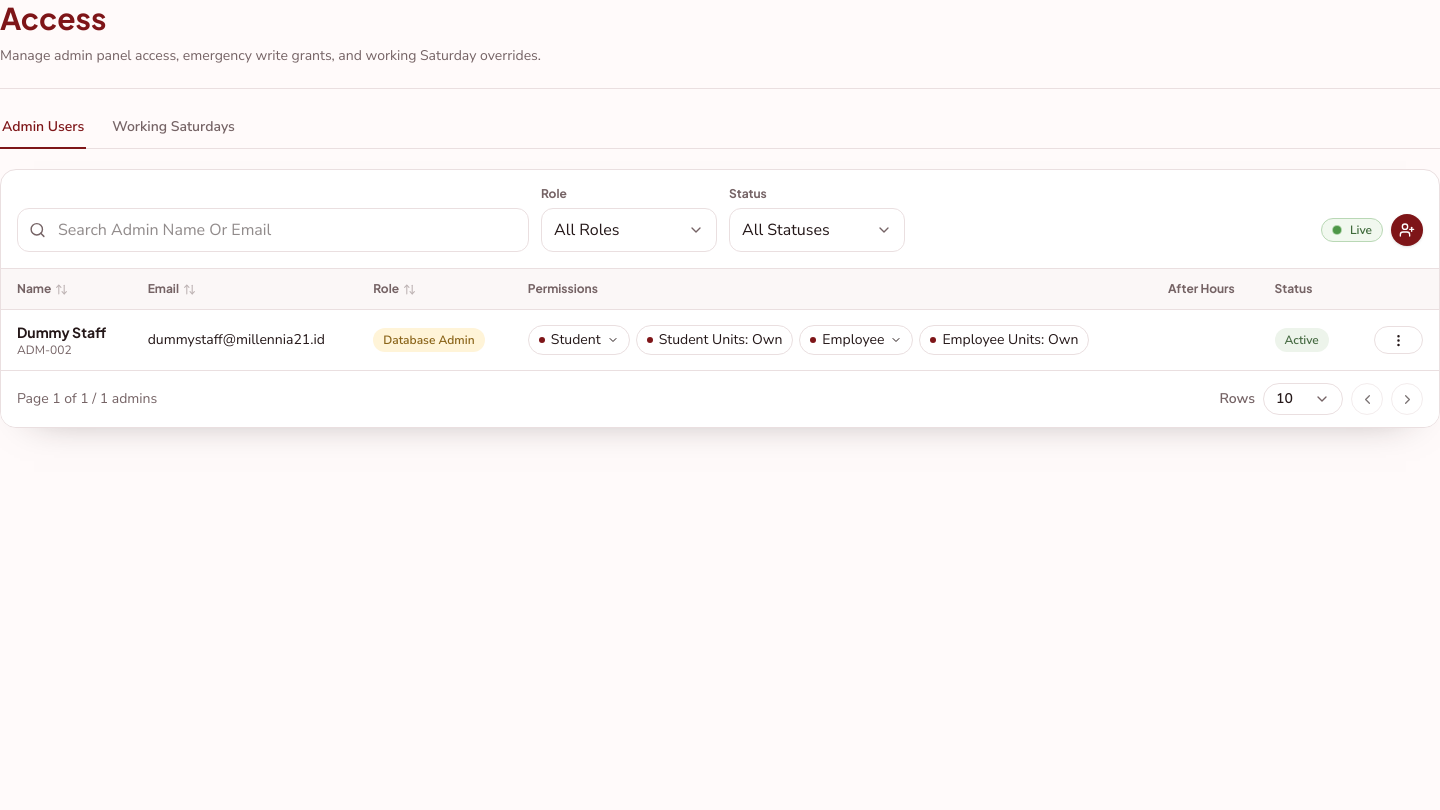
Test: Access role change summary › pages through the access history ten at a time instead of cutting it off
Expected: the text "dummystaff@millennia21.id" is shown, [148, 330, 341, 350]
What coordinates should you click on to do the following:
click the button named "Actions for dummystaff@millennia21.id"
I would click on:
 (1398, 340)
Its box is [1374, 326, 1423, 354].
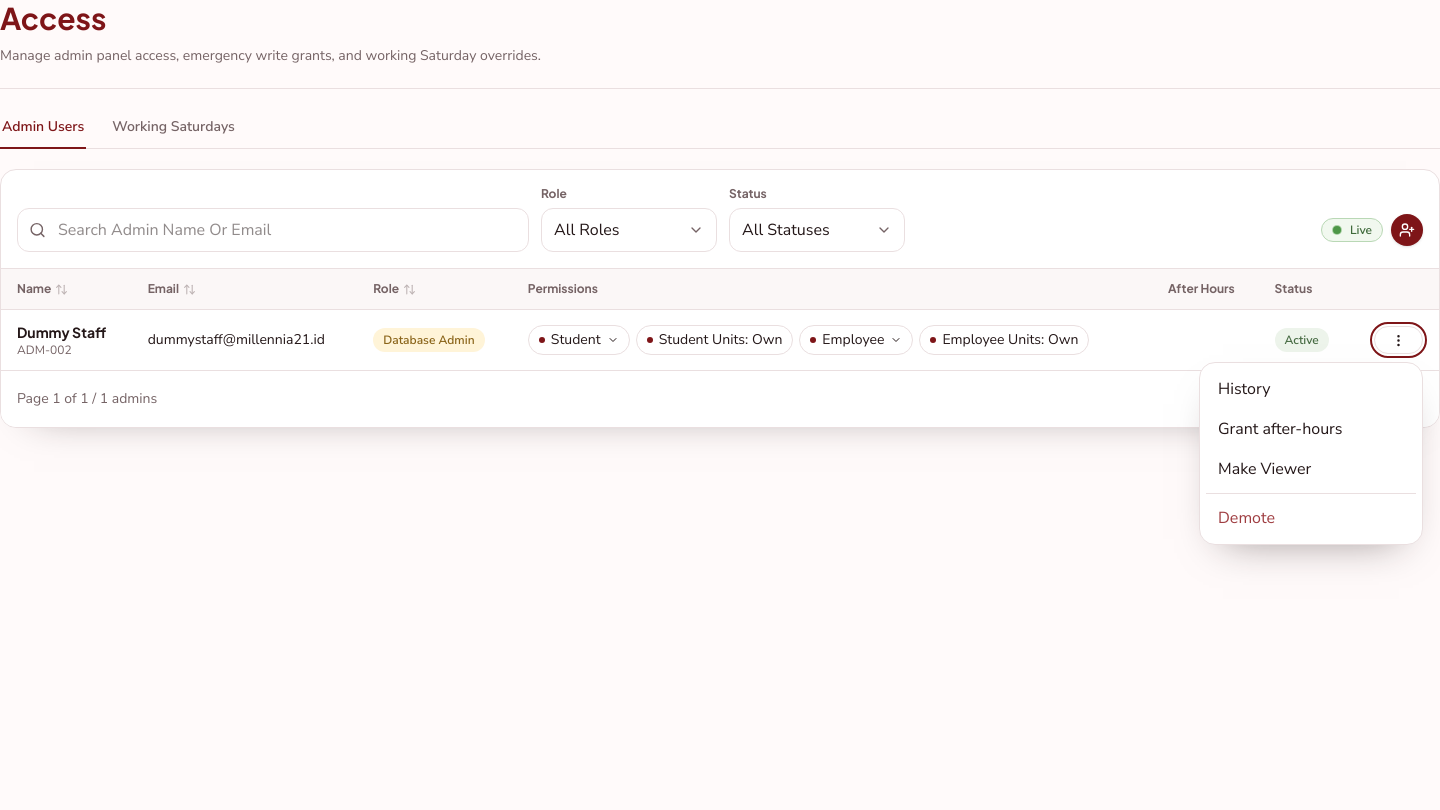
What coordinates should you click on to do the following:
click the button "History"
I would click on:
 (1311, 389)
Its box is [1206, 369, 1416, 409].
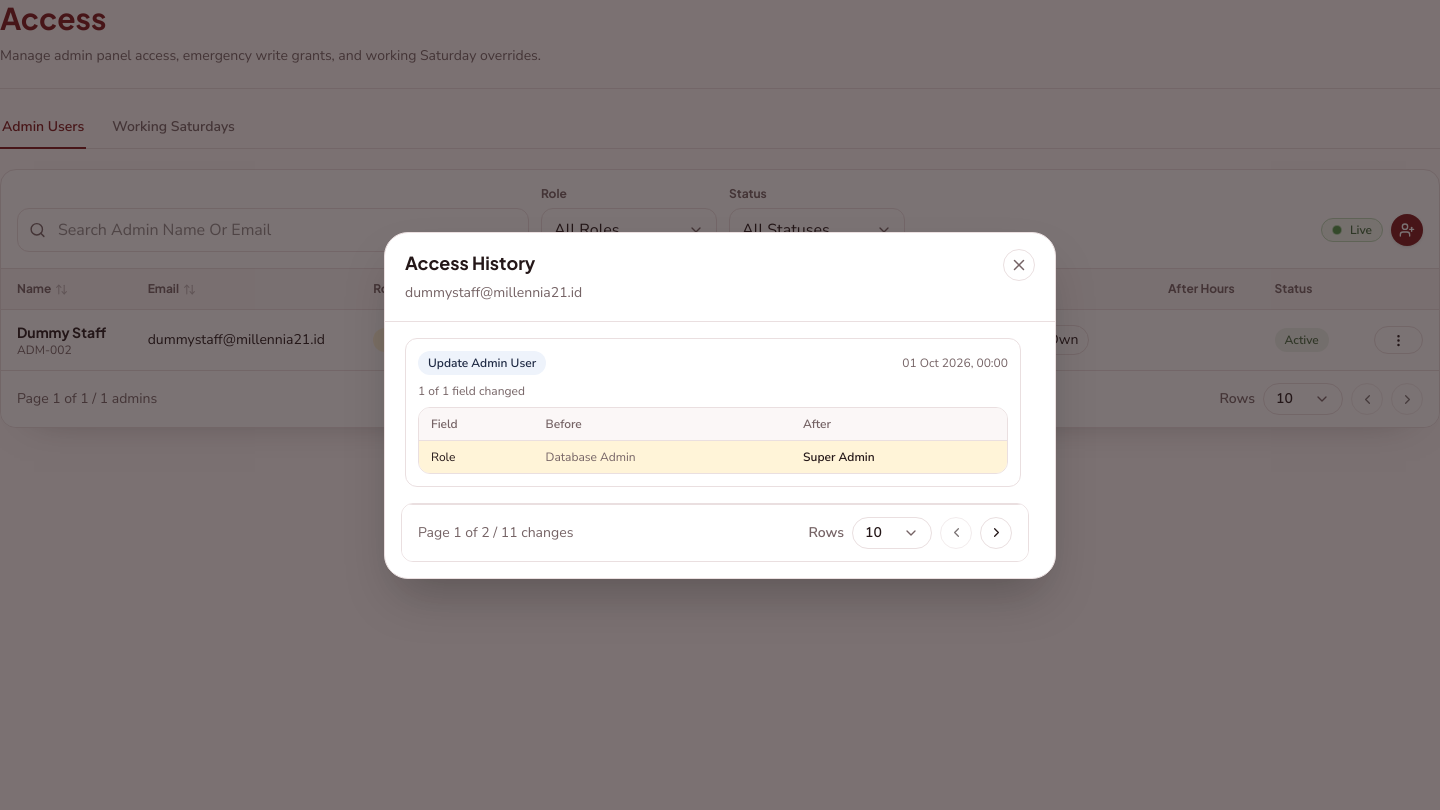
Expected: the text "Page 1 of 2 / 11 changes" is shown, [418, 522, 573, 542]
What coordinates should you click on to do the following:
click the button named "Next"
I would click on:
 (996, 532)
Its box is [980, 516, 1012, 548].
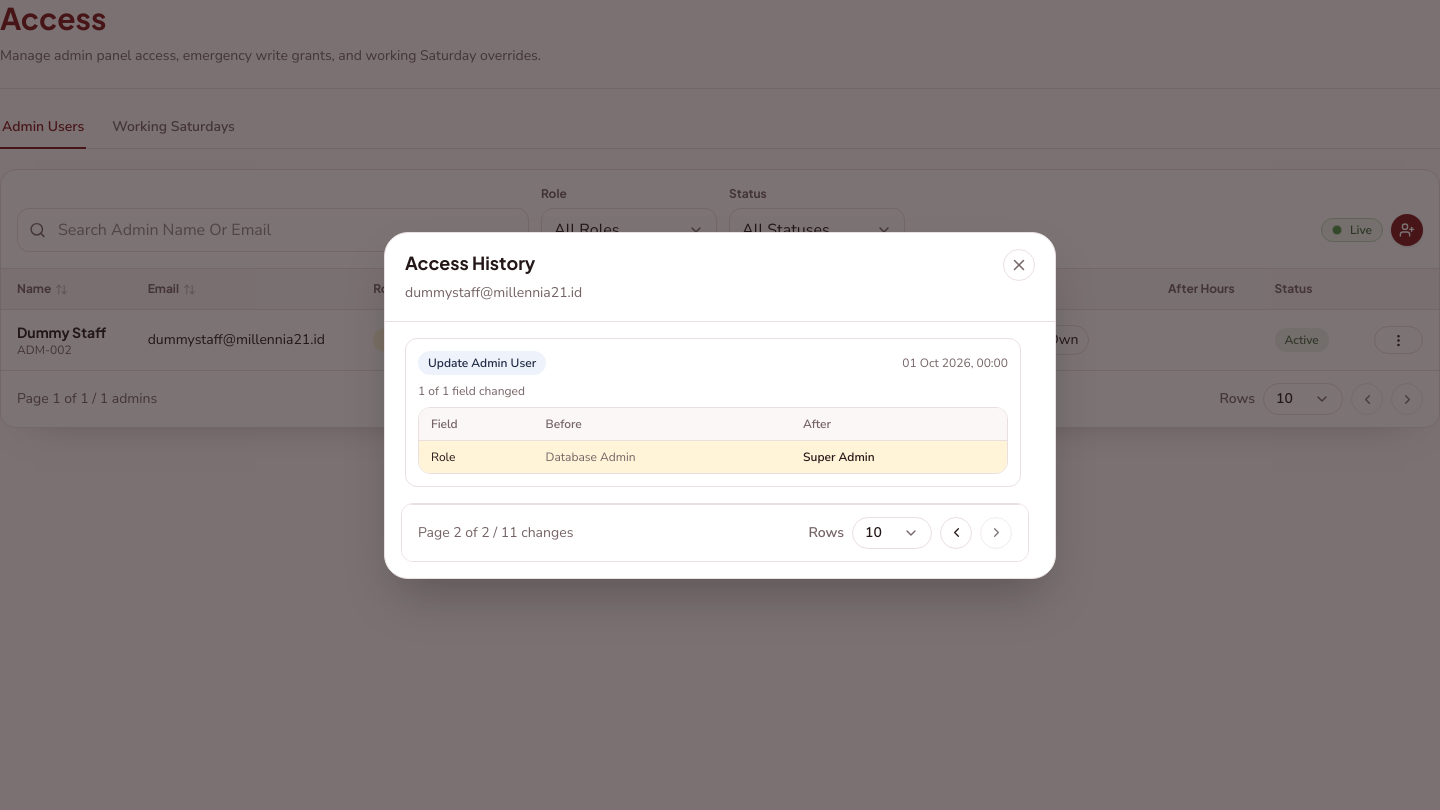
Expected: the text "Page 2 of 2 / 11 changes" is shown, [418, 522, 573, 542]
